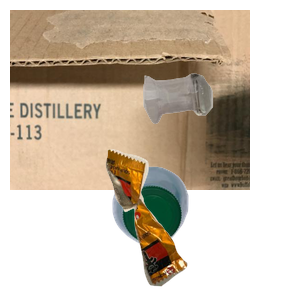cardboard: (10, 10, 250, 190)
glass: (141, 71, 300, 187)
plastic: (110, 164, 300, 300)
trash: (103, 147, 300, 300)
